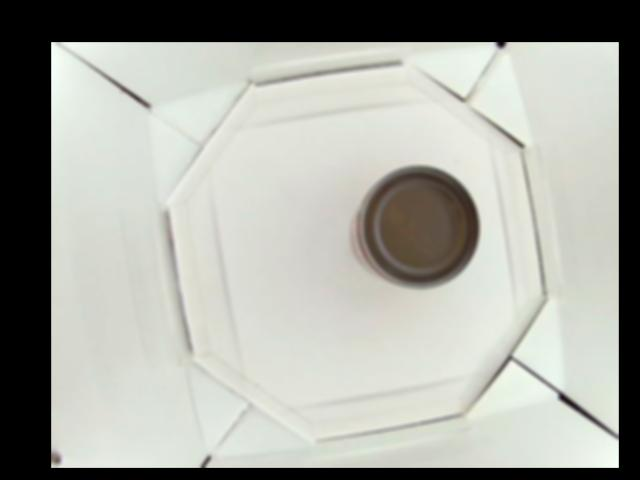Bottle: (352, 164, 483, 287)
